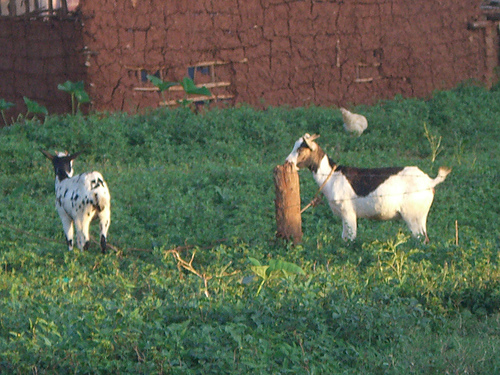goat: (285, 131, 452, 244), (38, 145, 112, 256)
